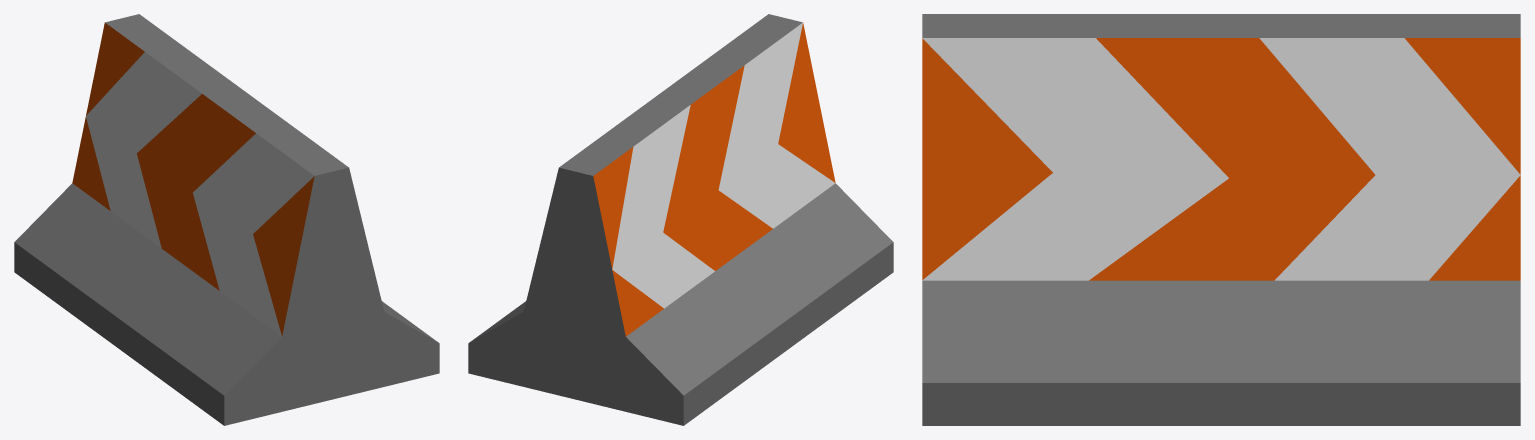
3 views of the same model, side by side, from view 1: azimuth 30°, elevation 25°; view 2: azimuth 150°, elevation 25°; view 3: azimuth 270°, elevation 25° (orthographic). The views are drawn at different scales.
Visible parts, largest first — view 1: Cube; view 2: Cube; view 3: Cube.
Boxes of the visible parts, box(x1,y1,x2,y2) form: Cube: box(14, 14, 439, 425); Cube: box(468, 14, 893, 425); Cube: box(922, 14, 1520, 425).
Size of the model in its own units: 455 by 460 by 768.
